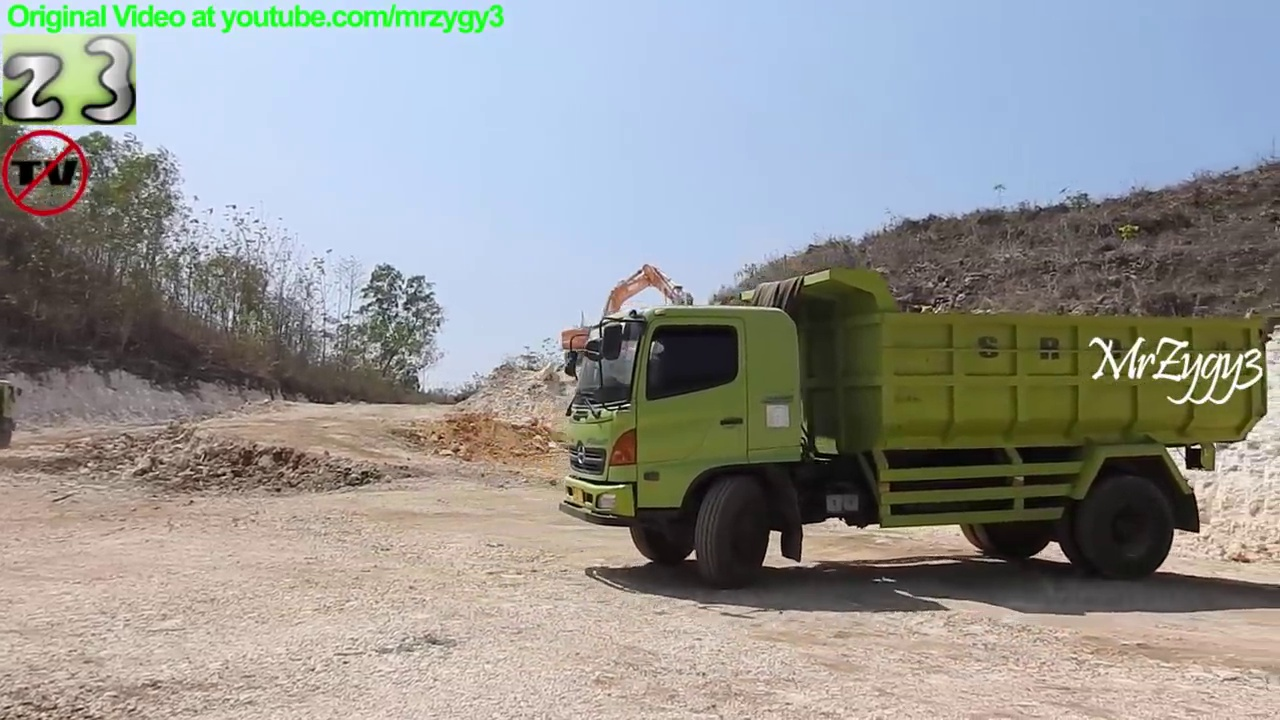excavator: (555, 258, 702, 383)
truck: (555, 259, 1274, 595), (1, 376, 27, 454)
